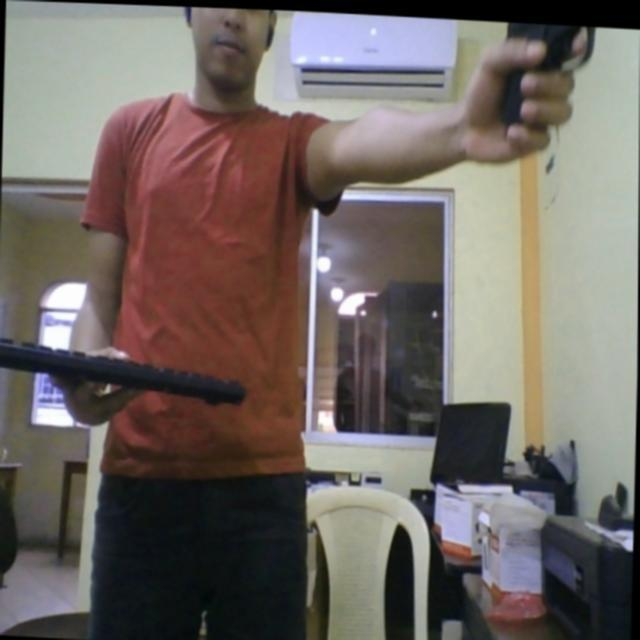weapon: (488, 17, 638, 140)
